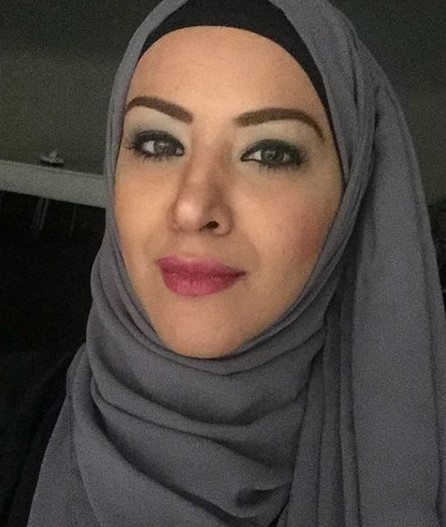face_no_mask: (112, 10, 362, 362)
